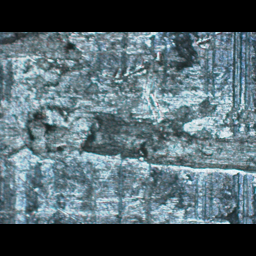d: (20, 93, 256, 182)
